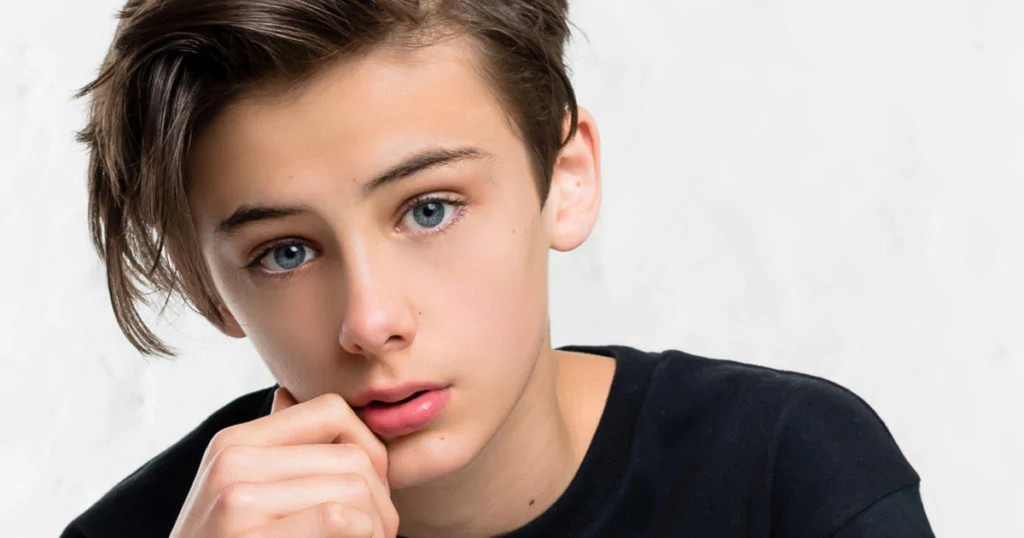BOY: (82, 1, 615, 475)
